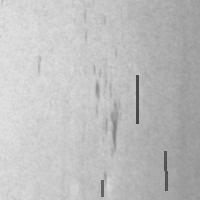inclusion: (88, 56, 116, 117), (101, 97, 124, 158), (163, 149, 168, 192), (135, 73, 139, 125), (100, 178, 104, 198)
